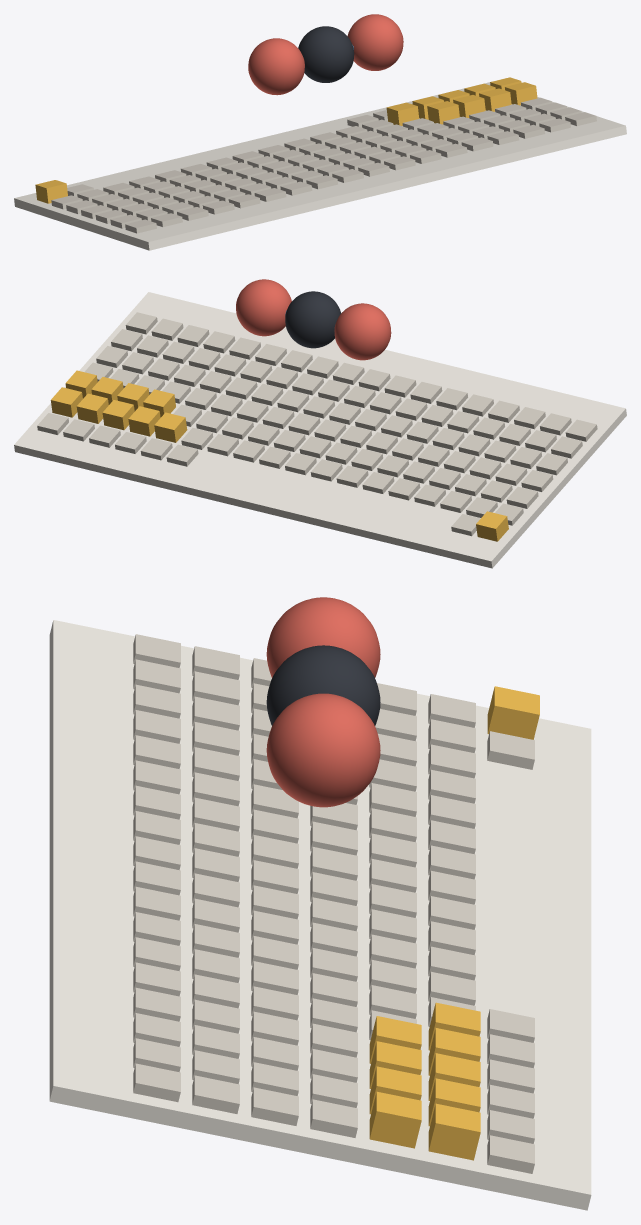
Rendered from chem-periodic-nonmetal.glb.
3 views of the same model, one above another, from view 1: azimuth 30°, elevation 25°; view 2: azimuth 150°, elevation 25°; view 3: azimuth 270°, elevation 25° (orthographic). The views are drawn at different scales.
Visible parts, largest first — view 1: table-backing, oxygen-atom, carbon-atom, oxygen-atom-two, highlight-cell-1-1, highlight-cell-15-3, highlight-cell-14-2, highlight-cell-17-3, highlight-cell-16-3, highlight-cell-18-3, highlight-cell-15-2; view 2: table-backing, oxygen-atom, carbon-atom, oxygen-atom-two, highlight-cell-1-1, highlight-cell-14-2, highlight-cell-15-2, highlight-cell-17-2, highlight-cell-18-2, highlight-cell-16-2, highlight-cell-15-3, highlight-cell-18-3 (+102 smaller); view 3: table-backing, oxygen-atom-two, oxygen-atom, carbon-atom, highlight-cell-18-2, highlight-cell-18-3, highlight-cell-1-1, cell-18-1, cell-18-5, cell-18-6, cell-18-4, cell-18-7 (+96 smaller).
Boxes of the visible parts, x1,y1,x2,y2 form: table-backing: [14, 82, 626, 250]; oxygen-atom: [248, 38, 304, 95]; carbon-atom: [298, 26, 354, 82]; oxygen-atom-two: [347, 14, 403, 70]; highlight-cell-1-1: [35, 180, 67, 203]; highlight-cell-15-3: [427, 101, 459, 124]; highlight-cell-14-2: [386, 102, 419, 125]; highlight-cell-17-3: [479, 88, 511, 111]; highlight-cell-16-3: [453, 95, 485, 117]; highlight-cell-18-3: [505, 82, 537, 105]; highlight-cell-15-2: [412, 96, 443, 119]; table-backing: [14, 292, 626, 568]; oxygen-atom: [334, 303, 391, 360]; carbon-atom: [285, 291, 340, 348]; oxygen-atom-two: [236, 279, 291, 336]; highlight-cell-1-1: [476, 511, 508, 541]; highlight-cell-14-2: [154, 412, 187, 442]; highlight-cell-15-2: [128, 406, 160, 436]; highlight-cell-17-2: [76, 393, 108, 423]; highlight-cell-18-2: [50, 387, 82, 417]; highlight-cell-16-2: [102, 400, 134, 430]; highlight-cell-15-3: [143, 389, 175, 417]; highlight-cell-18-3: [65, 370, 97, 398]; table-backing: [49, 620, 591, 1210]; oxygen-atom-two: [266, 693, 380, 807]; oxygen-atom: [266, 597, 380, 677]; carbon-atom: [266, 645, 380, 725]; highlight-cell-18-2: [428, 1103, 480, 1160]; highlight-cell-18-3: [369, 1091, 421, 1148]; highlight-cell-1-1: [487, 686, 539, 739]; cell-18-1: [487, 1135, 534, 1173]; cell-18-5: [251, 1087, 298, 1125]; cell-18-6: [192, 1075, 239, 1113]; cell-18-4: [310, 1099, 357, 1137]; cell-18-7: [133, 1063, 180, 1102].
Size of what is drawn, in the model's own units: 3.1 by 1.03 by 1.52.
